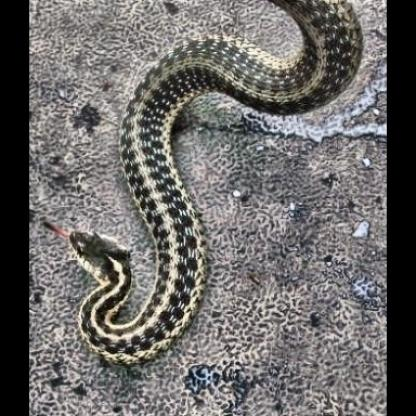Snake: (61, 0, 364, 368)
